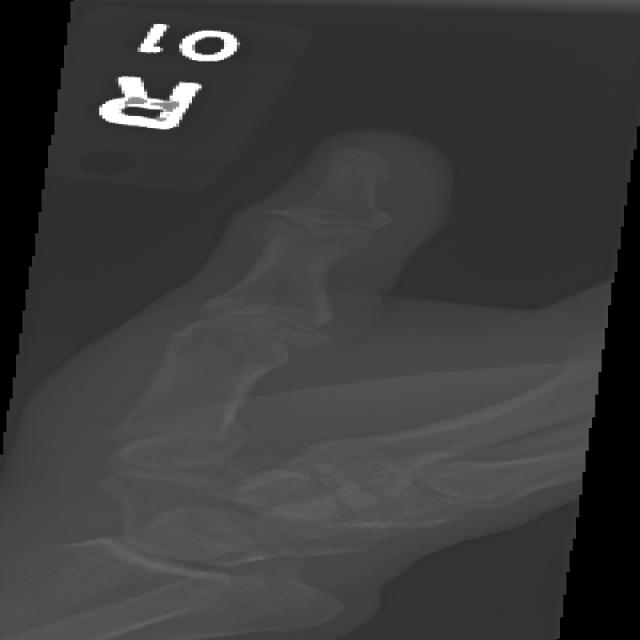fingers positive: (241, 194, 409, 280)
